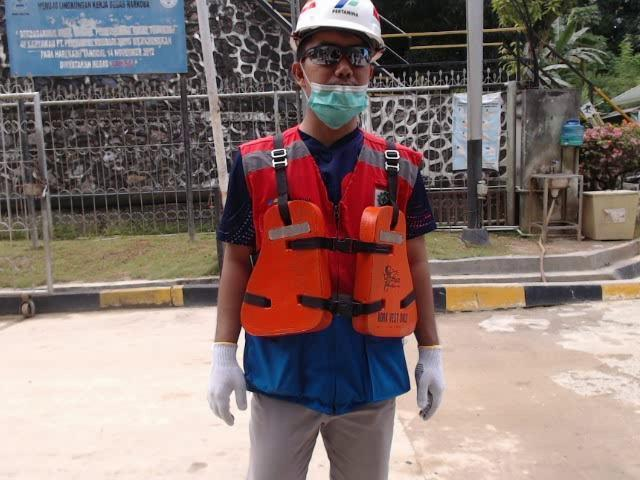vest: (242, 198, 419, 343)
